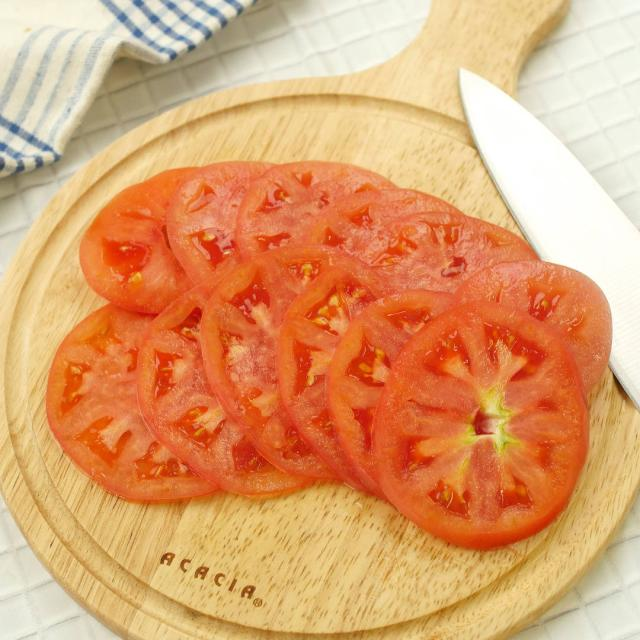Tomato: (374, 302, 591, 552), (277, 256, 459, 514), (135, 267, 318, 500), (44, 301, 222, 505), (197, 244, 346, 485), (325, 286, 478, 507), (75, 168, 247, 320), (450, 259, 615, 411), (164, 155, 299, 292), (232, 160, 404, 264), (362, 209, 540, 302), (294, 187, 464, 274)
